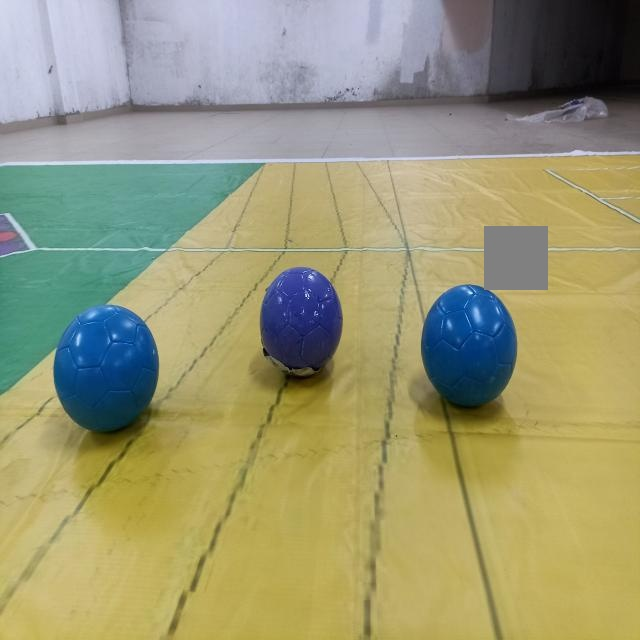blue_ball: (37, 306, 169, 437), (413, 274, 528, 416)
purple_ball: (248, 262, 350, 386)
